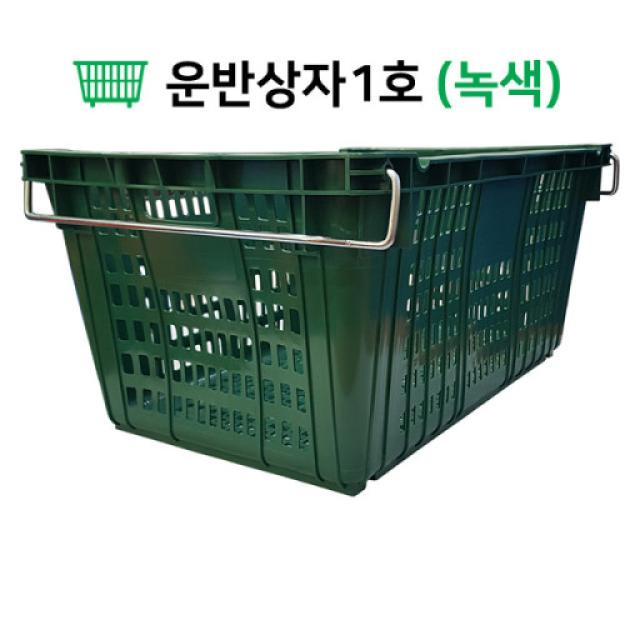basket: (21, 143, 616, 496)
